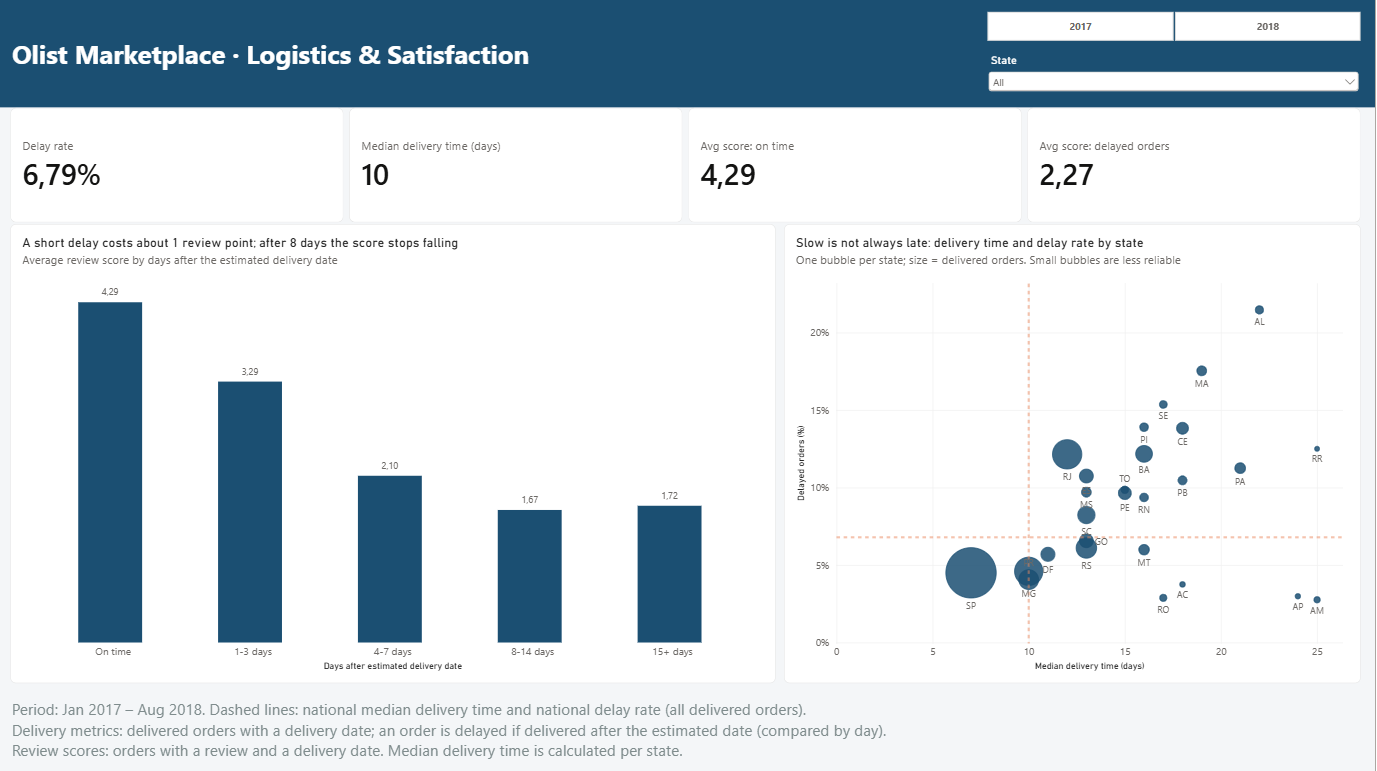

The dashboard page shown, as its layout file describes it:
{"tool":"powerbi","page":{"name":"Logistics & Satisfaction","canvas":[1920,1080],"ordinal":1},"visuals":[{"type":"shape","box":[0,0,1920,151.3],"z":0},{"type":"slicer","fields":{"Values":["Calendar.Year"]},"box":[1358,16,560,44],"z":1000},{"type":"slicer","fields":{"Values":["customers.customer_state"]},"box":[1376,76,526,58],"z":2000},{"type":"cardVisual","fields":{"Data":["_Measure.Delay_rate","_Measure.Median_delivery_days","_Measure.Avg_score_on_time","_Measure.Avg_score_delayed"]},"box":[15.7,151.9,1885.1,160.6],"z":3000},{"type":"clusteredColumnChart","title":"A short delay costs about 1 review point; after 8 days the score stops falling","fields":{"Category":["orders.delay_bucket"],"Y":["_Measure.Avg_review_score"]},"box":[15.7,314.2,1068.2,640.6],"z":4000},{"type":"textbox","box":[0,955,1918.2,125.4],"z":6000},{"type":"scatterChart","title":"Slow is not always late: delivery time and delay rate by state","fields":{"Category":["customers.customer_state"],"Size":["_Measure.Delivered_orders"],"X":["_Measure.Median_delivery_days"],"Y":["_Measure.Delay_rate"]},"box":[1096.1,314.2,804.7,640.6],"z":6001}]}

Visuals, with their boxes in screenshot pixels (x1, y1, x2, y2), scaled from the page's 1920x1080 canvas onto the 1377x771 screenshot:
shape: [0, 0, 1376, 108]
slicer - Calendar.Year: [974, 11, 1376, 43]
slicer - customers.customer_state: [987, 54, 1364, 96]
cardVisual - _Measure.Delay_rate x _Measure.Median_delivery_days: [11, 108, 1363, 223]
"A short delay costs about 1 review point; after 8 days the score stops falling" clusteredColumnChart: [11, 224, 777, 682]
textbox: [0, 682, 1376, 770]
"Slow is not always late: delivery time and delay rate by state" scatterChart: [786, 224, 1363, 682]
